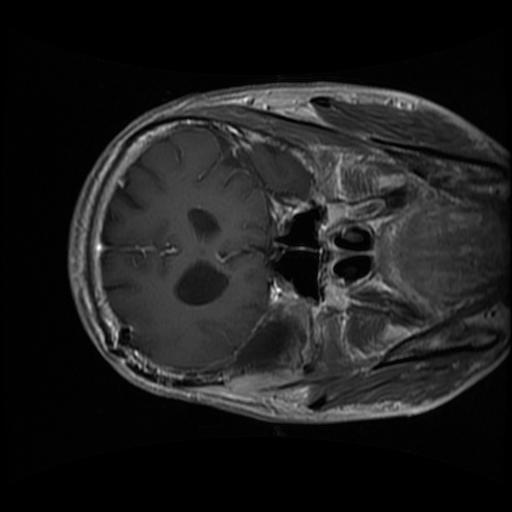glioma: (218, 305, 310, 380)
